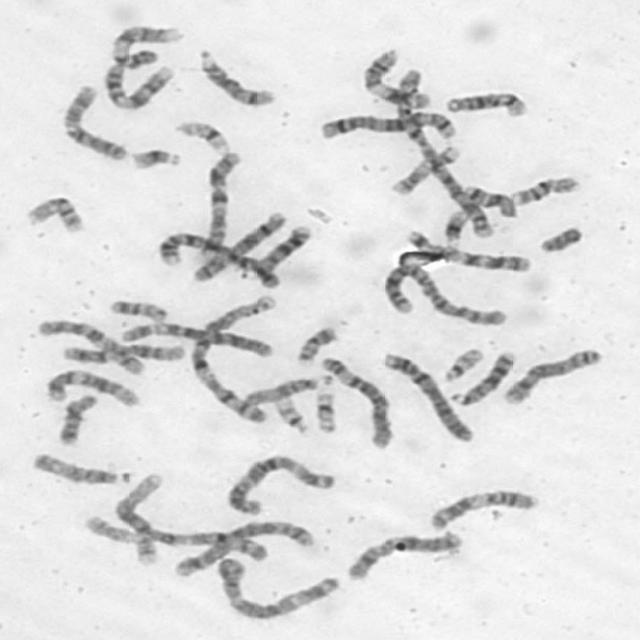A1: (108, 471, 272, 564), (186, 291, 279, 425)
A2: (392, 68, 502, 240), (378, 258, 511, 328)
A3: (214, 554, 342, 622), (222, 451, 336, 516)
B4: (378, 349, 476, 444), (155, 229, 288, 292)
B5: (168, 518, 316, 578), (315, 109, 461, 141)
C10: (32, 316, 146, 376), (61, 84, 129, 166)
C11: (425, 485, 540, 532), (359, 46, 433, 110)
C12: (42, 366, 142, 409), (60, 342, 186, 367)
C6: (318, 354, 396, 451), (116, 319, 277, 358)
C7: (405, 228, 534, 273), (194, 148, 242, 262)
C8: (192, 210, 286, 284), (498, 346, 606, 406)
C9: (102, 62, 177, 112), (110, 24, 190, 69)
D13: (240, 223, 316, 286), (447, 347, 518, 407)
D14: (198, 47, 280, 108), (442, 88, 529, 119)
D15: (29, 451, 127, 487), (242, 372, 335, 408)
E16: (508, 171, 583, 207), (23, 194, 86, 236)
E17: (78, 513, 160, 569), (388, 142, 462, 198)
E18: (54, 391, 99, 446), (460, 181, 517, 219)
F19: (173, 118, 232, 155), (312, 388, 339, 435)
F20: (292, 322, 340, 363), (106, 297, 170, 323)
G21: (128, 144, 183, 172), (439, 208, 469, 242)
G22: (440, 344, 486, 382), (271, 395, 312, 435)
X: (344, 528, 463, 582)
Y: (534, 223, 585, 254)
